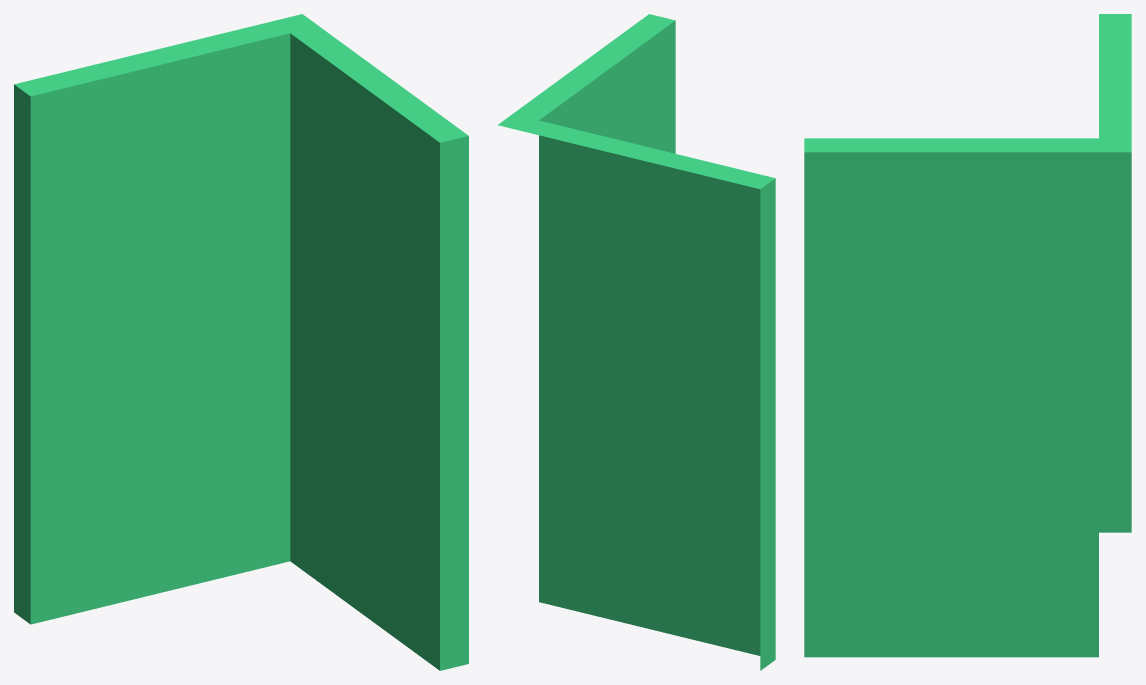
The model's file is Green_Wall_Inner_Corner.fbx.
3 views of the same model, side by side, from view 1: azimuth 30°, elevation 25°; view 2: azimuth 150°, elevation 25°; view 3: azimuth 270°, elevation 25° (orthographic). The views are drawn at different scales.
Parts seen in each view (by area): view 1: G Inner Corner; view 2: G Inner Corner; view 3: G Inner Corner.
Part boxes in pixels (bbox=[...]): G Inner Corner: bbox=[14, 14, 468, 670]; G Inner Corner: bbox=[497, 14, 775, 670]; G Inner Corner: bbox=[804, 14, 1131, 657].
Bounding box in the file's own units: 2 × 3.5 × 2.
